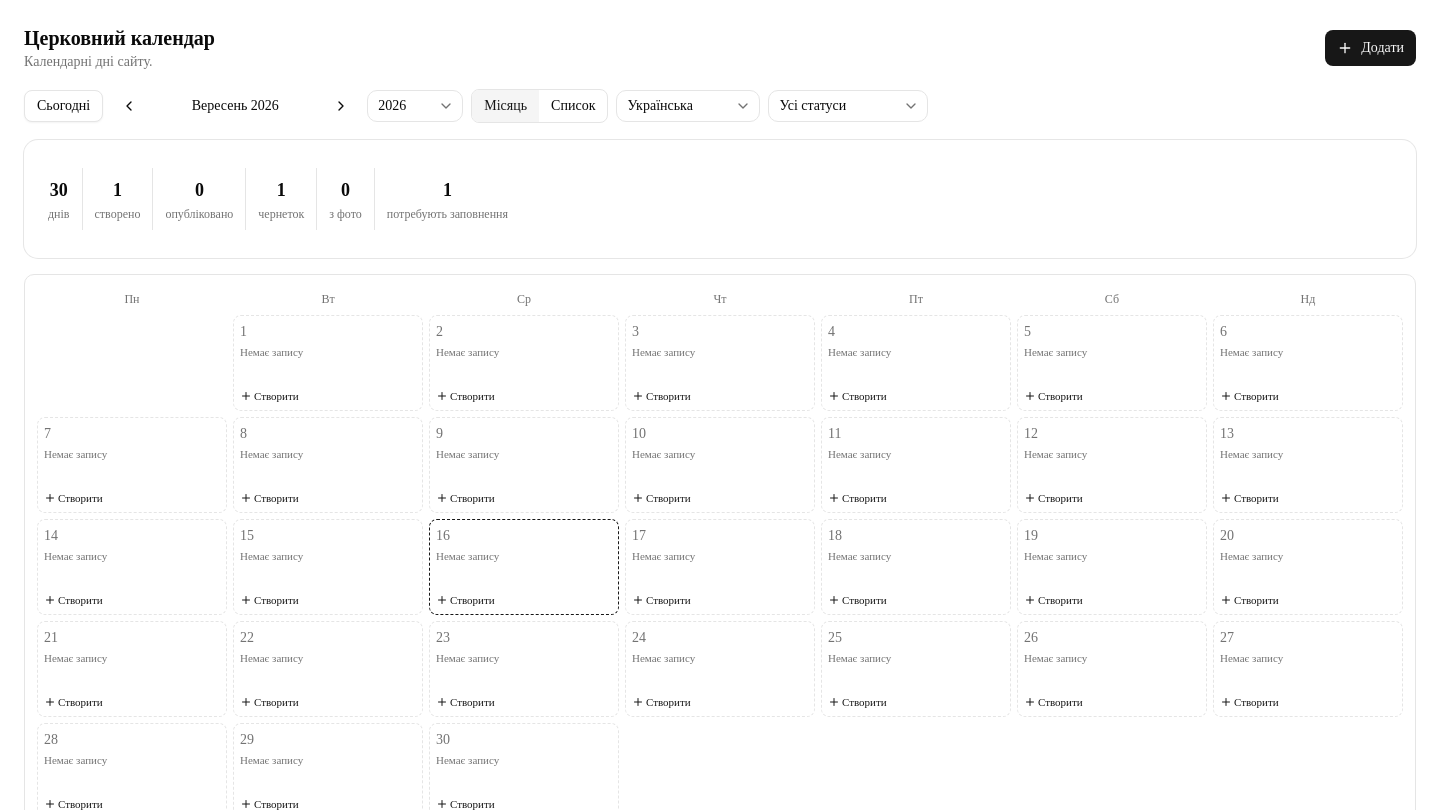
it: CalendarListView › switches between Month grid and List table without changing route
The width and height of the screenshot is (1440, 810).
Expected: the text "Пн" is shown, x1=124 y1=292 x2=140 y2=306
Click the button "Список": x=573, y=106 x1=539 y1=90 x2=607 y2=122
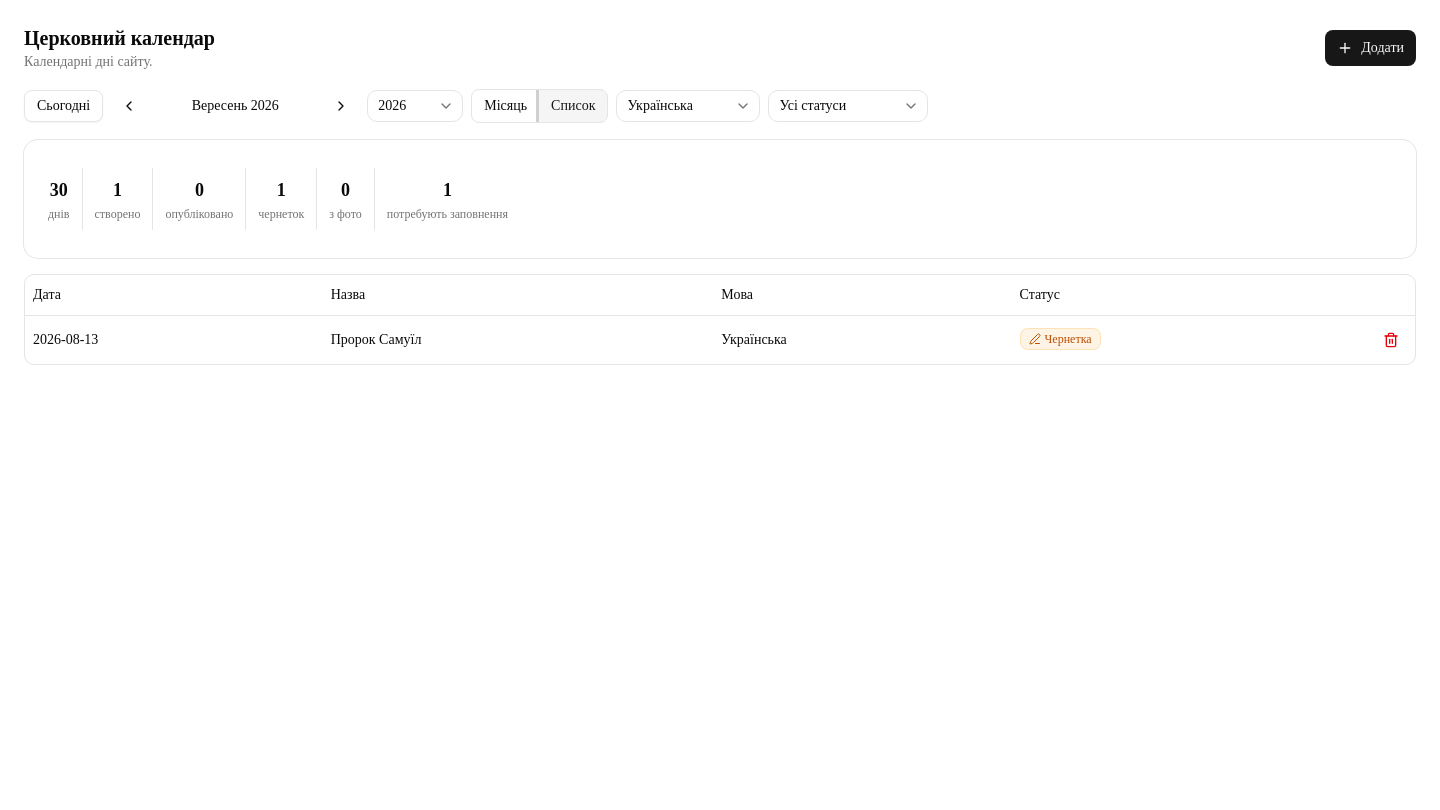
Expected: the text "Пн" is gone
Expected: the column heading "Назва" is shown, x1=323 y1=275 x2=713 y2=315
Click the button "Місяць": x=506, y=106 x1=472 y1=90 x2=539 y2=122
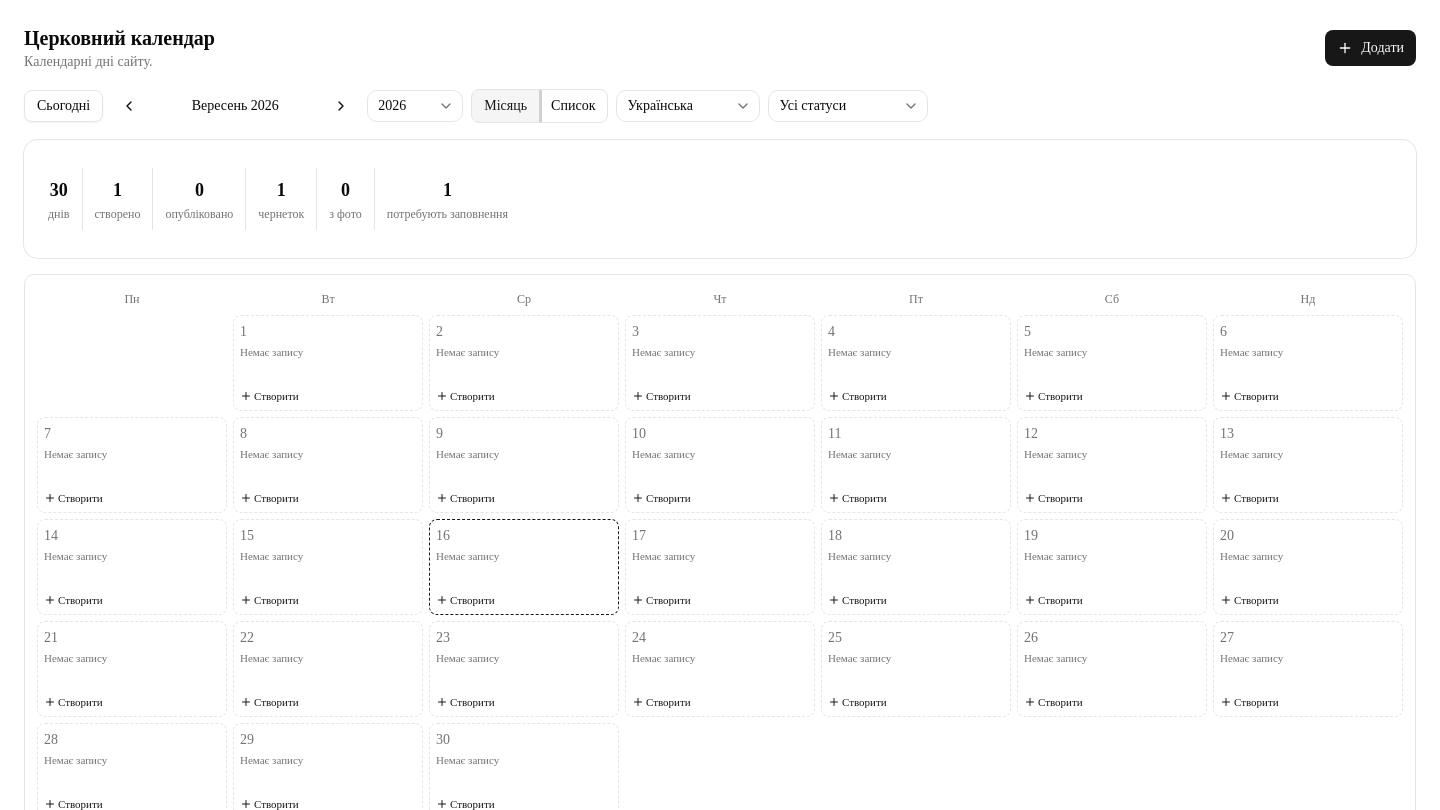
Expected: the text "Пн" is shown, x1=124 y1=292 x2=140 y2=306
